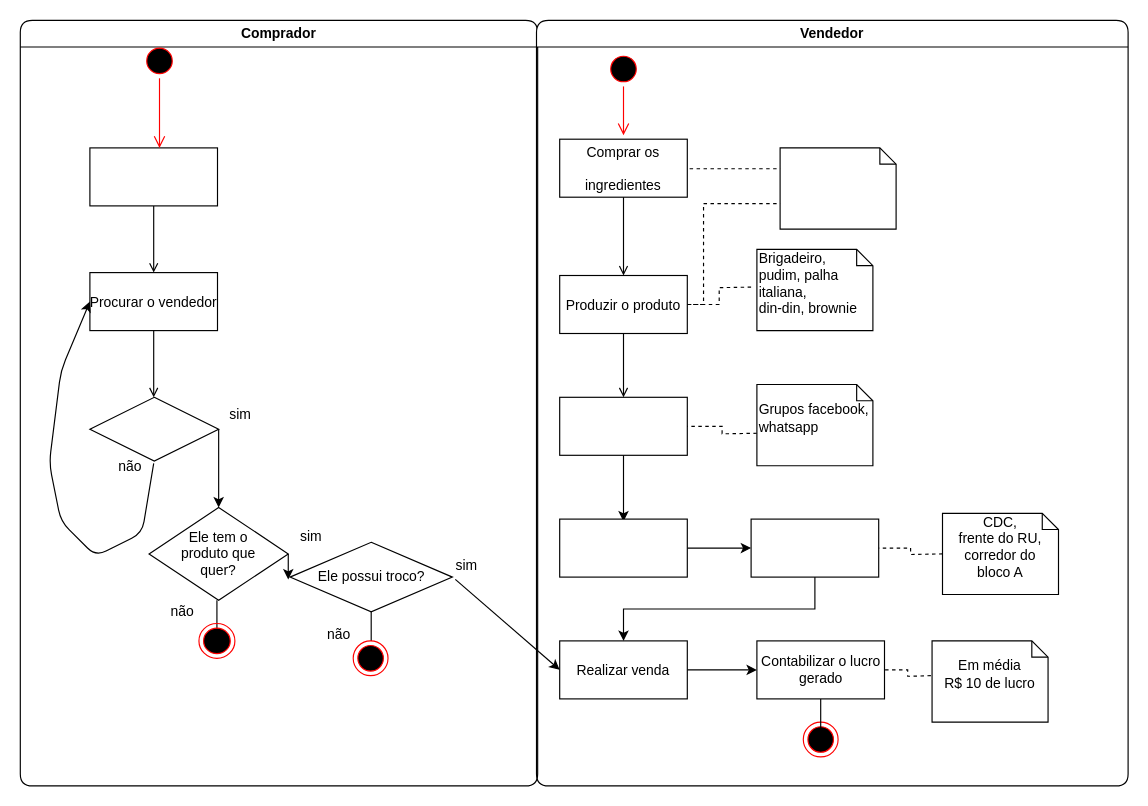
The diagram is 1148 pixels wide and 806 high, and some of its shapes have lost their labels. The shapes that lost their labels are listed below. From the top down, each one's centre as x and y in pixels, then its label:
the point at 153,176: Ter dinheiro
the point at 837,188: Em média R$ 15
the point at 154,428: Encontrou?
the point at 623,425: Divulgar
the point at 623,547: Levar troco
the point at 814,547: Procurar um ponto ou compradores
